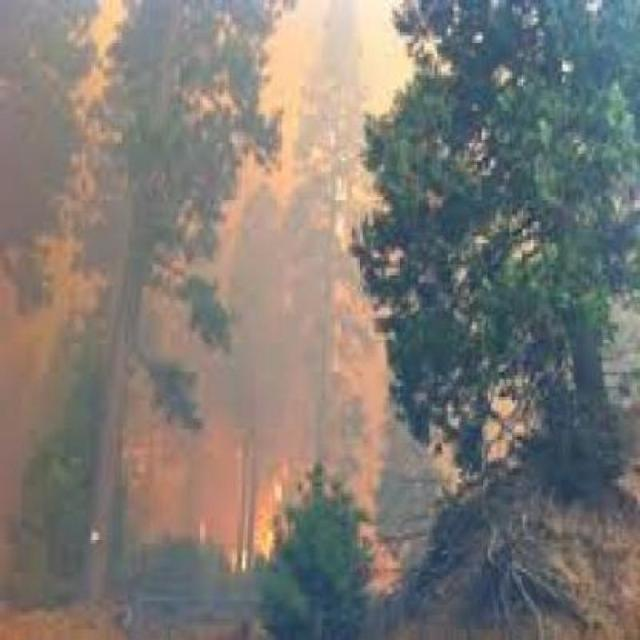Fire: (204, 458, 298, 572)
